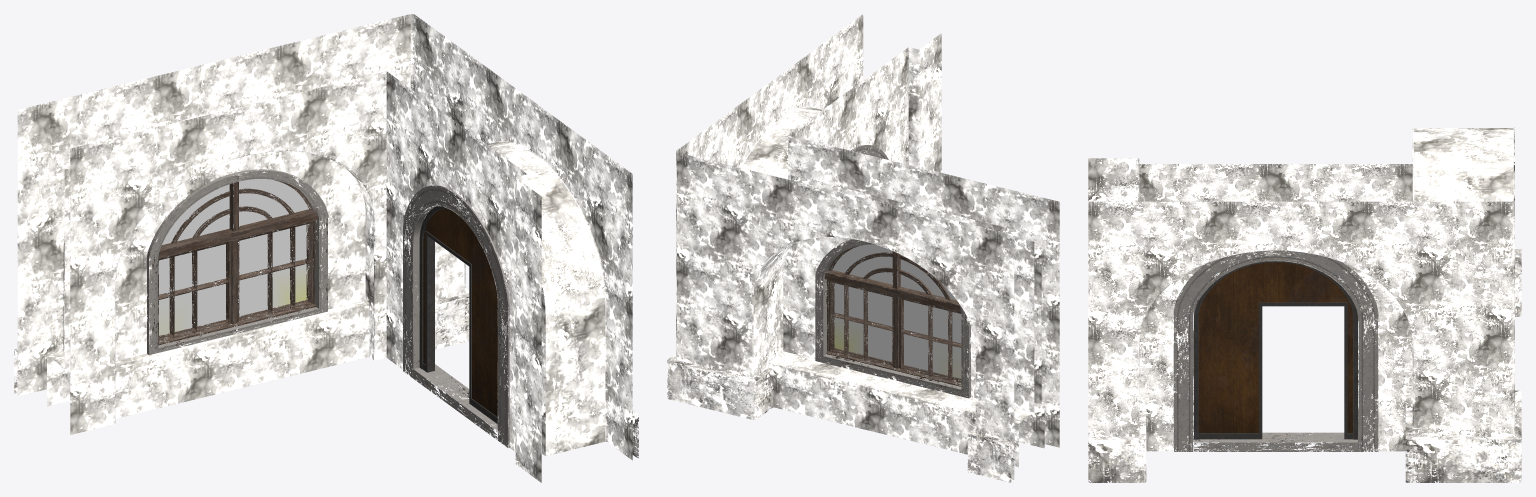
The picture shows the model from 3 angles, left to right: view 1: azimuth 30°, elevation 25°; view 2: azimuth 150°, elevation 25°; view 3: azimuth 270°, elevation 25°; orthographic projection. The views are drawn at different scales.
Visible parts, largest first — view 1: SM_wall_B_corner_02_01_LOD0; view 2: SM_wall_B_corner_02_01_LOD0; view 3: SM_wall_B_corner_02_01_LOD0.
Boxes of the visible parts, x1=… form: SM_wall_B_corner_02_01_LOD0: x1=14, y1=14, x2=638, y2=482; SM_wall_B_corner_02_01_LOD0: x1=667, y1=14, x2=1059, y2=482; SM_wall_B_corner_02_01_LOD0: x1=1088, y1=127, x2=1521, y2=482.
Size of the model in its own units: 660 by 635 by 450.
6 materials, 5 textured.
